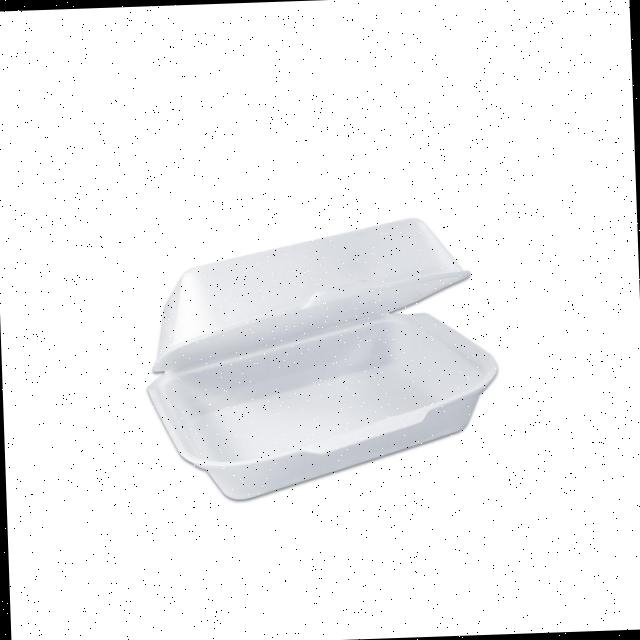styrofoam: (140, 212, 503, 504), (144, 213, 473, 375)
